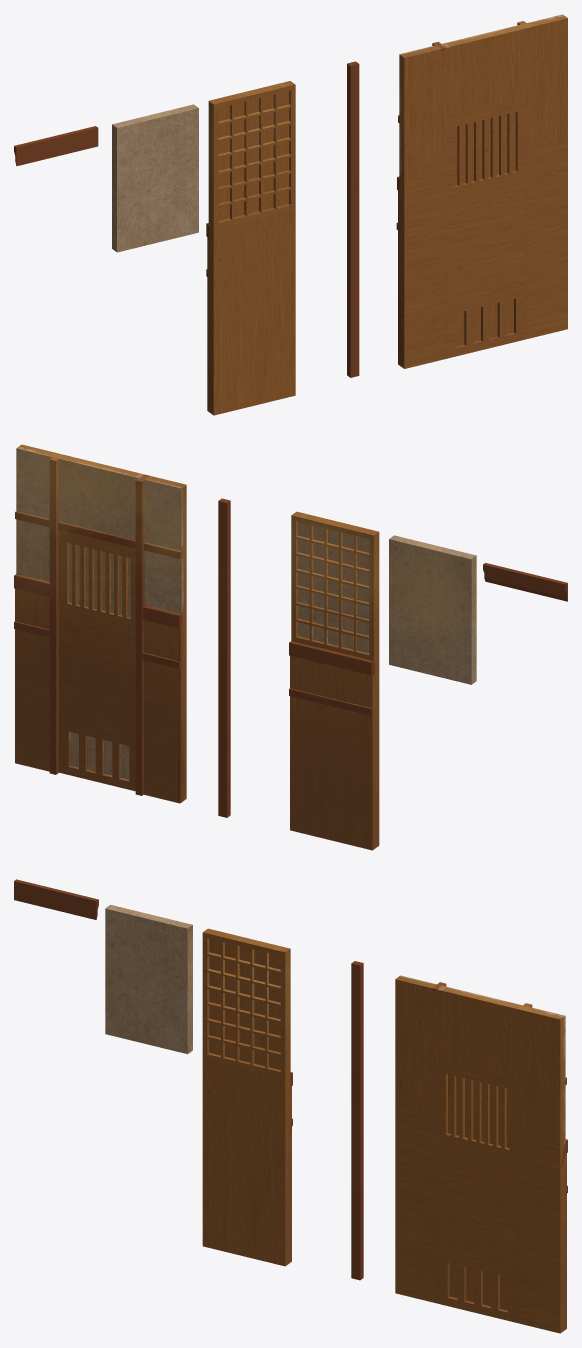
File: ENV_Paredes.fbx
3 views of the same model, one above another, from view 1: azimuth 30°, elevation 25°; view 2: azimuth 150°, elevation 25°; view 3: azimuth 330°, elevation 25° (orthographic).
Visible parts, largest first — view 1: m_ParedPuerta, m_Puerta, m_Pared_BaseInferior, m_Pared_Ventana, m_Pared_BaseSuperior, m_Pared_Columna, m_Pared_Socalo; view 2: m_ParedPuerta, m_Puerta, m_Pared_BaseInferior, m_Pared_Ventana, m_Pared_BaseSuperior, m_Pared_Columna, m_Pared_Socalo; view 3: m_ParedPuerta, m_Puerta, m_Pared_BaseInferior, m_Pared_Ventana, m_Pared_BaseSuperior, m_Pared_Columna, m_Pared_Socalo.
Part boxes in pixels (bbox=[...]): m_ParedPuerta: bbox=[396, 14, 567, 368]; m_Puerta: bbox=[446, 97, 525, 358]; m_Pared_BaseInferior: bbox=[206, 209, 295, 415]; m_Pared_Ventana: bbox=[208, 81, 295, 228]; m_Pared_BaseSuperior: bbox=[112, 104, 198, 252]; m_Pared_Columna: bbox=[347, 61, 359, 377]; m_Pared_Socalo: bbox=[14, 126, 98, 166]; m_ParedPuerta: bbox=[14, 444, 186, 803]; m_Puerta: bbox=[59, 529, 135, 791]; m_Pared_BaseInferior: bbox=[289, 641, 379, 850]; m_Pared_Ventana: bbox=[291, 511, 379, 660]; m_Pared_BaseSuperior: bbox=[389, 535, 476, 684]; m_Pared_Columna: bbox=[218, 498, 230, 817]; m_Pared_Socalo: bbox=[483, 563, 567, 601]; m_ParedPuerta: bbox=[395, 975, 567, 1333]; m_Puerta: bbox=[438, 1059, 517, 1322]; m_Pared_BaseInferior: bbox=[202, 1058, 292, 1266]; m_Pared_Ventana: bbox=[202, 928, 290, 1077]; m_Pared_BaseSuperior: bbox=[105, 904, 192, 1054]; m_Pared_Columna: bbox=[351, 961, 363, 1280]; m_Pared_Socalo: bbox=[14, 879, 98, 919].
Size of the model in its own units: 1394 by 760 by 38.57.
1 material, 1 textured.
